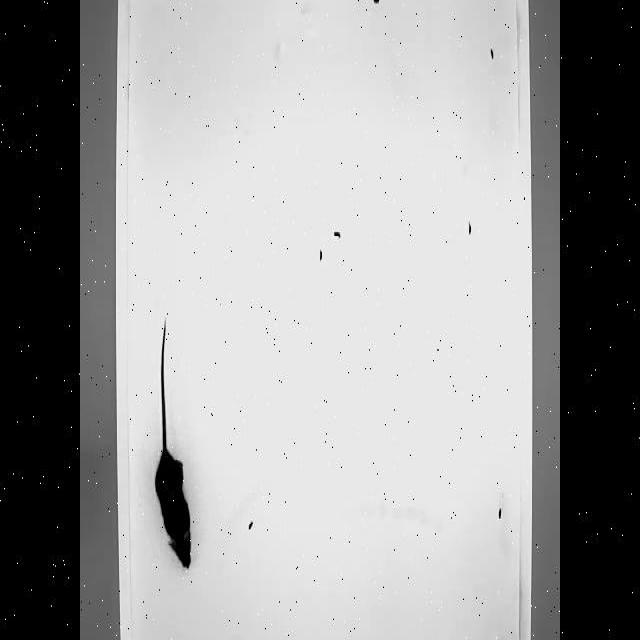rat: (153, 316, 193, 572)
